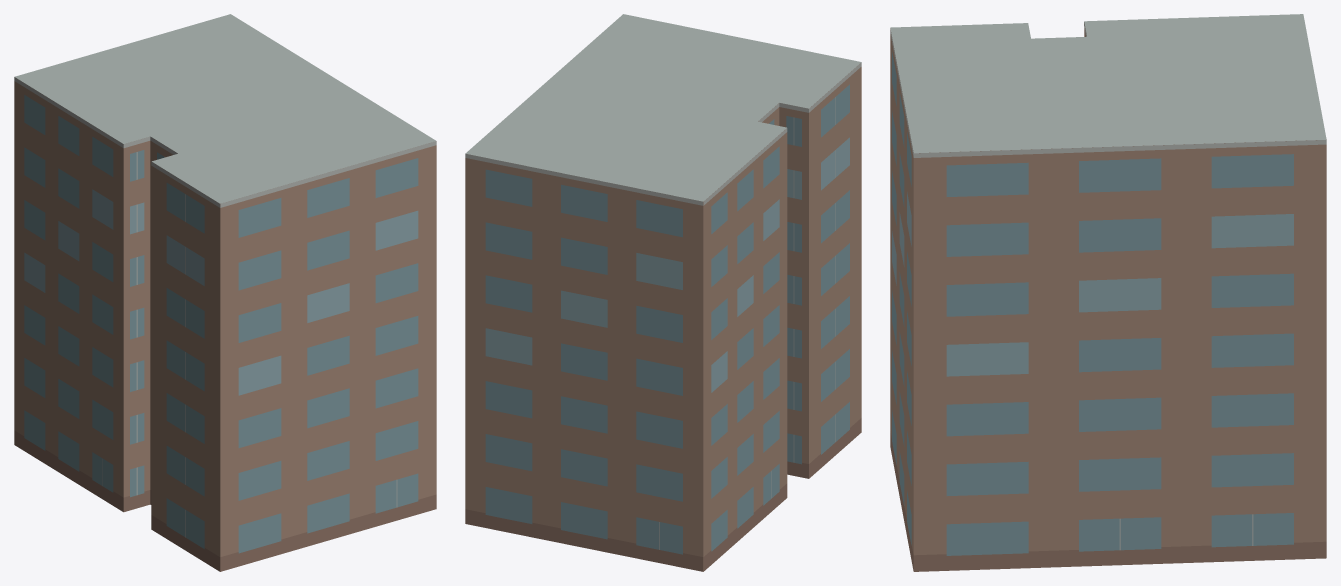
The model's file is survey-upis-33045215.glb.
3 views of the same model, side by side, from view 1: azimuth 30°, elevation 25°; view 2: azimuth 150°, elevation 25°; view 3: azimuth 270°, elevation 25° (orthographic). The views are drawn at different scales.
Visible parts, largest first — view 1: survey-upis-33045215.tmp; view 2: survey-upis-33045215.tmp; view 3: survey-upis-33045215.tmp.
Part boxes in pixels (box(x1,y1,x2,y2)): survey-upis-33045215.tmp: box(14, 14, 436, 571); survey-upis-33045215.tmp: box(465, 14, 861, 571); survey-upis-33045215.tmp: box(890, 14, 1326, 571).
Size of the model in its own units: 15.32 by 21.45 by 20.28.
